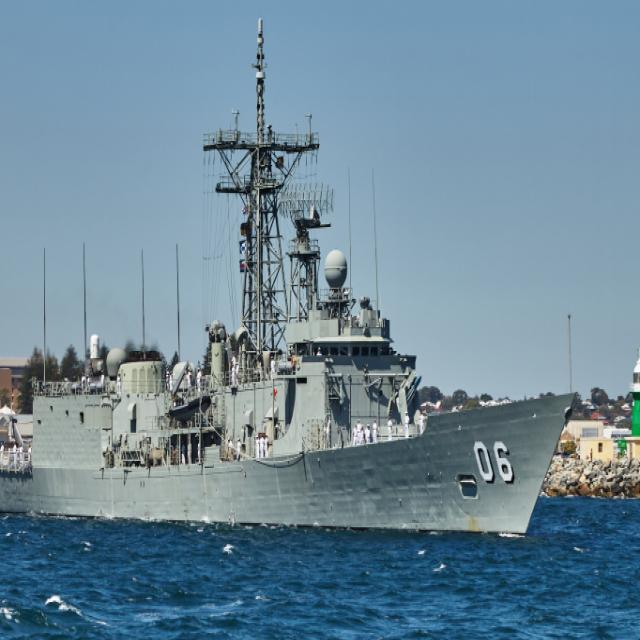Fragata: (1, 1, 582, 545)
